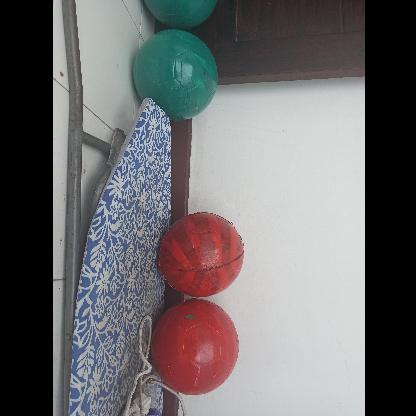red_ball: (150, 300, 244, 394), (161, 213, 245, 297)
